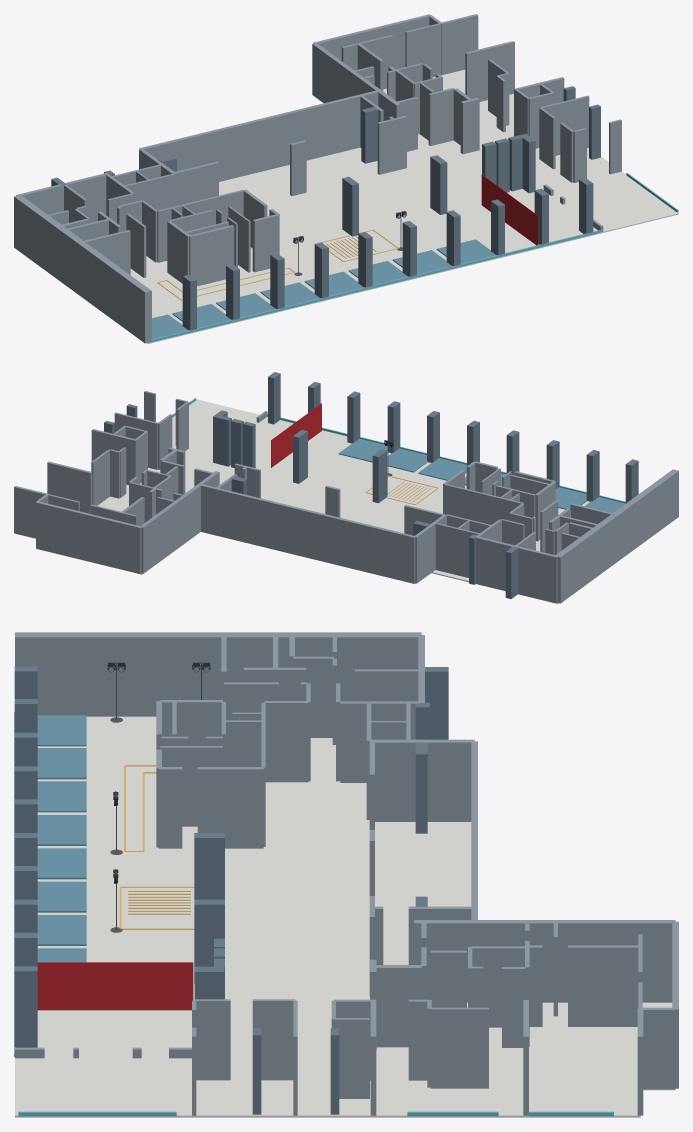
File: event.glb
3 renders of one model, top to bottom at view 1: azimuth 30°, elevation 25°; view 2: azimuth 150°, elevation 25°; view 3: azimuth 270°, elevation 25°, orthographic. The views are drawn at different scales.
Visible parts, largest first — view 1: Floor01_known_lower_footprint, Wall_wardrobe_north, Wall_west, Wall_catering_west, Wall_service_bottom_1, Wall_wc_north, Wall_catering_cross, Wall_catering_north, Wall_catering_top_right, Wall_service_top, Event_banner_10m_length_3m_height, Wall_wardrobe_south_3 (+57 smaller); view 2: Floor01_known_lower_footprint, Wall_wardrobe_north, Wall_west, Wall_catering_north, Wall_wc_north, Wall_catering_west, Wall_service_top, Wall_lift_top, Wall_catering_cross, Event_banner_10m_length_3m_height, Wall_catering_lower, Wall_wardrobe_west (+42 smaller); view 3: Floor01_known_lower_footprint, Wall_west, Wall_catering_west, Event_banner_10m_length_3m_height, Wall_wardrobe_west, Wall_catering_partition_1, Wall_service_right_1, Wall_catering_stairwall_1, Wall_service_east, Wall_catering_south_3, Wall_wc_east, Wall_entry_west_1 (+48 smaller).
Part boxes in pixels (x1,y1,x2,y2): Floor01_known_lower_footprint: (130, 69, 678, 343); Wall_wardrobe_north: (139, 90, 379, 181); Wall_west: (14, 195, 151, 343); Wall_catering_west: (312, 43, 400, 120); Wall_service_bottom_1: (189, 225, 234, 286); Wall_wc_north: (16, 173, 106, 222); Wall_catering_cross: (465, 41, 514, 101); Wall_catering_north: (313, 14, 430, 69); Wall_catering_top_right: (441, 14, 478, 74); Wall_service_top: (157, 189, 243, 262); Event_banner_10m_length_3m_height: (481, 175, 538, 245); Wall_wardrobe_south_3: (377, 116, 406, 174); Floor01_known_lower_footprint: (15, 399, 590, 603); Wall_wardrobe_north: (201, 484, 415, 583); Wall_west: (555, 469, 678, 603); Wall_catering_north: (36, 501, 141, 573); Wall_wc_north: (476, 536, 557, 603); Wall_catering_west: (140, 471, 219, 573); Wall_service_top: (444, 484, 523, 524); Wall_lift_top: (434, 522, 479, 577); Wall_catering_cross: (47, 461, 92, 513); Event_banner_10m_length_3m_height: (271, 403, 321, 467); Wall_catering_lower: (91, 429, 137, 485); Wall_wardrobe_west: (415, 515, 446, 583); Floor01_known_lower_footprint: (15, 716, 675, 1117); Wall_west: (15, 632, 421, 716); Wall_catering_west: (414, 920, 675, 1002); Event_banner_10m_length_3m_height: (37, 962, 193, 1010); Wall_wardrobe_west: (370, 739, 474, 821); Wall_catering_partition_1: (568, 945, 640, 1026); Wall_service_right_1: (197, 767, 263, 848); Wall_catering_stairwall_1: (430, 1007, 488, 1088); Wall_service_east: (264, 701, 308, 782); Wall_catering_south_3: (373, 965, 421, 1047); Wall_wc_east: (340, 701, 420, 782); Wall_entry_west_1: (252, 999, 295, 1080).
Size of the model in its own units: 54.73 by 5.12 by 38.01.
